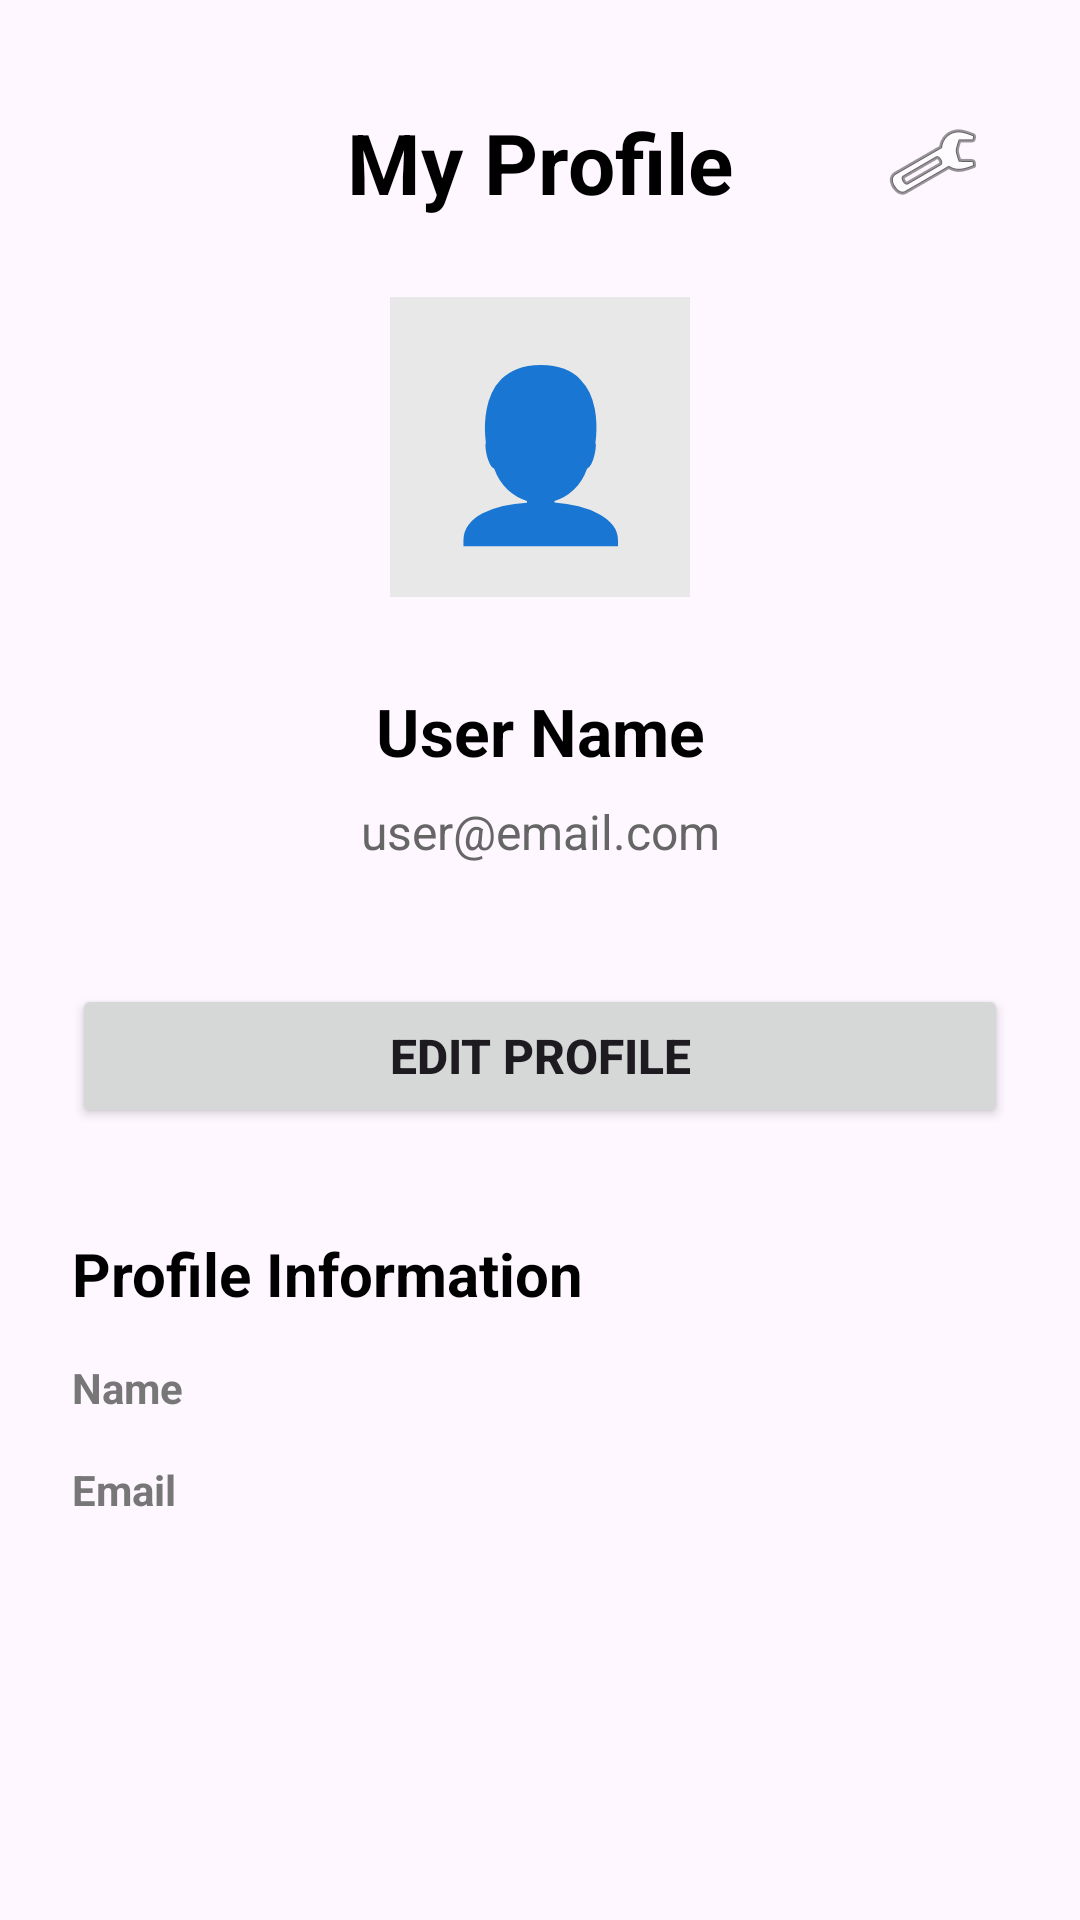

Screen size 1080*1920. Icon name, then its center in pixels as [x,y]:
Settings: [933,162]
